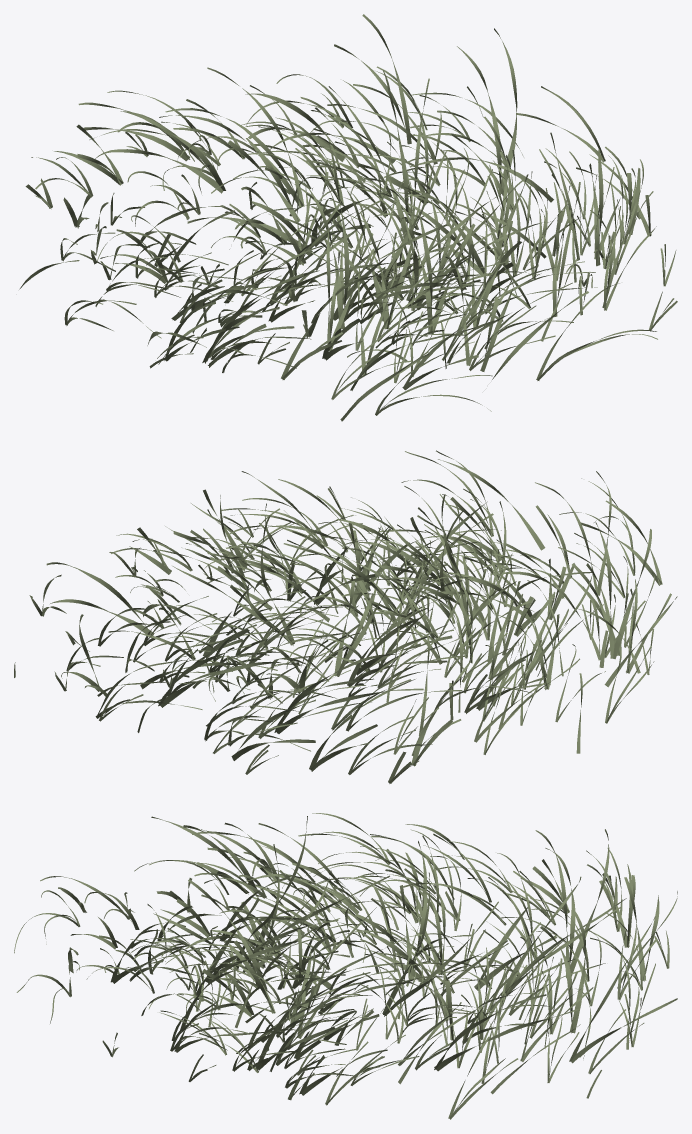
File: smallGrassPatch2.fbx
3 views of the same model, one above another, from view 1: azimuth 30°, elevation 25°; view 2: azimuth 150°, elevation 25°; view 3: azimuth 270°, elevation 25° (orthographic). The views are drawn at different scales.
Parts seen in each view (by area): view 1: grassCarpet6Main; view 2: grassCarpet6Main; view 3: grassCarpet6Main.
Part boxes in pixels (x1=…): grassCarpet6Main: x1=19, y1=14, x2=677, y2=421; grassCarpet6Main: x1=14, y1=450, x2=677, y2=783; grassCarpet6Main: x1=14, y1=813, x2=677, y2=1119.
Size of the model in its own units: 3.77 by 0.9982 by 4.07.
